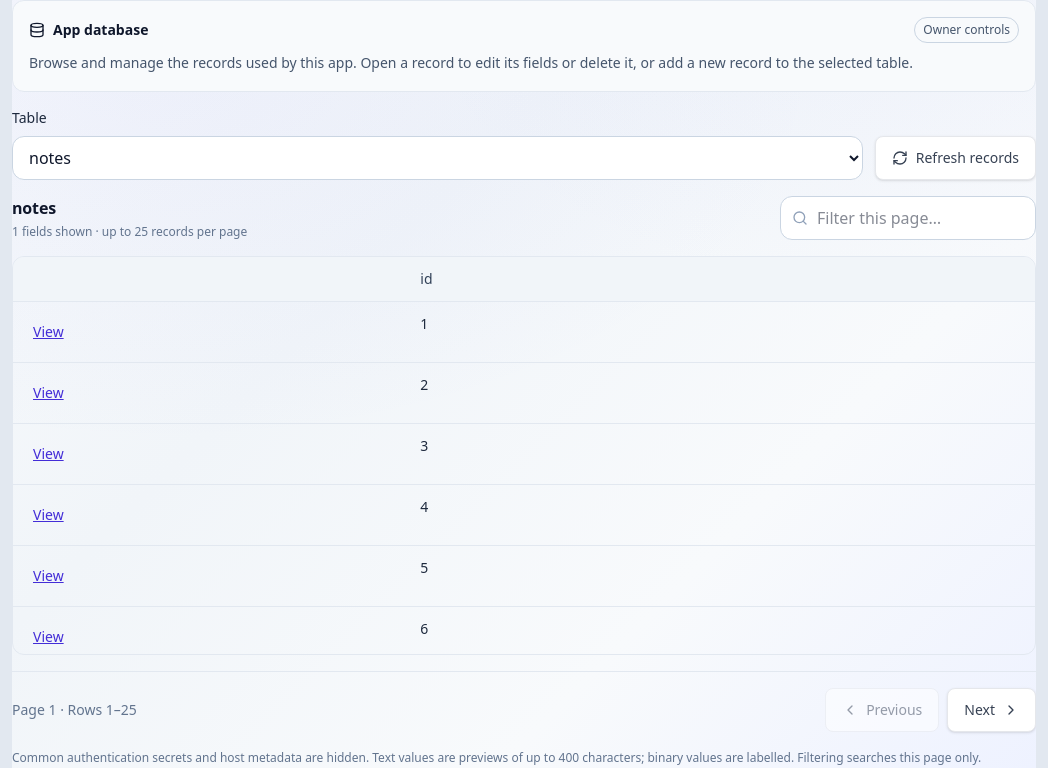
Scenario: steps by the page size the server sends
Click the button "Next".
click(992, 710)  # box [947,688,1036,732]
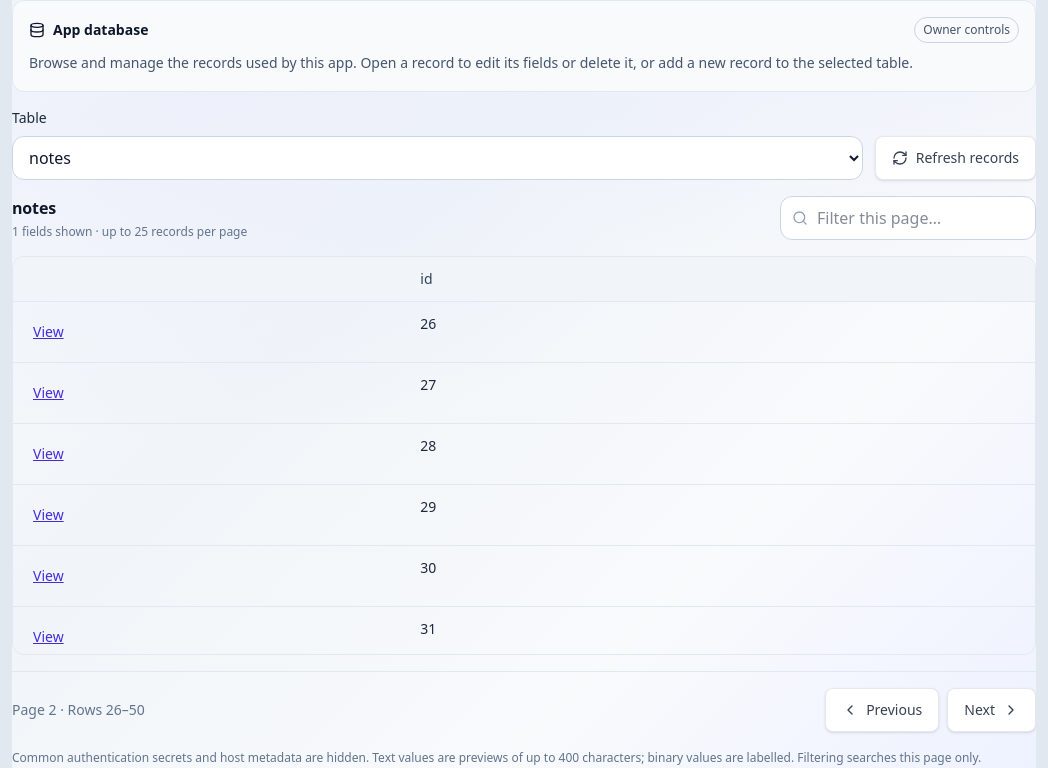
Expected: the text "Page 2 · Rows 26–50" is shown, [12,700,145,720]
